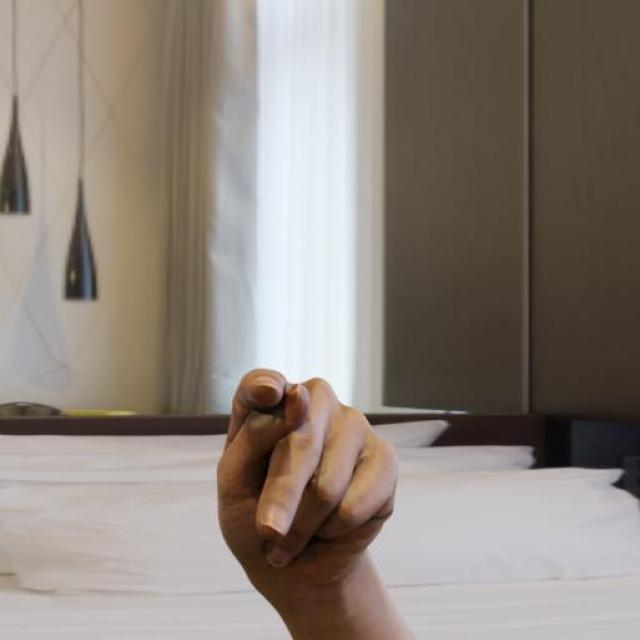P: (215, 367, 402, 596)
